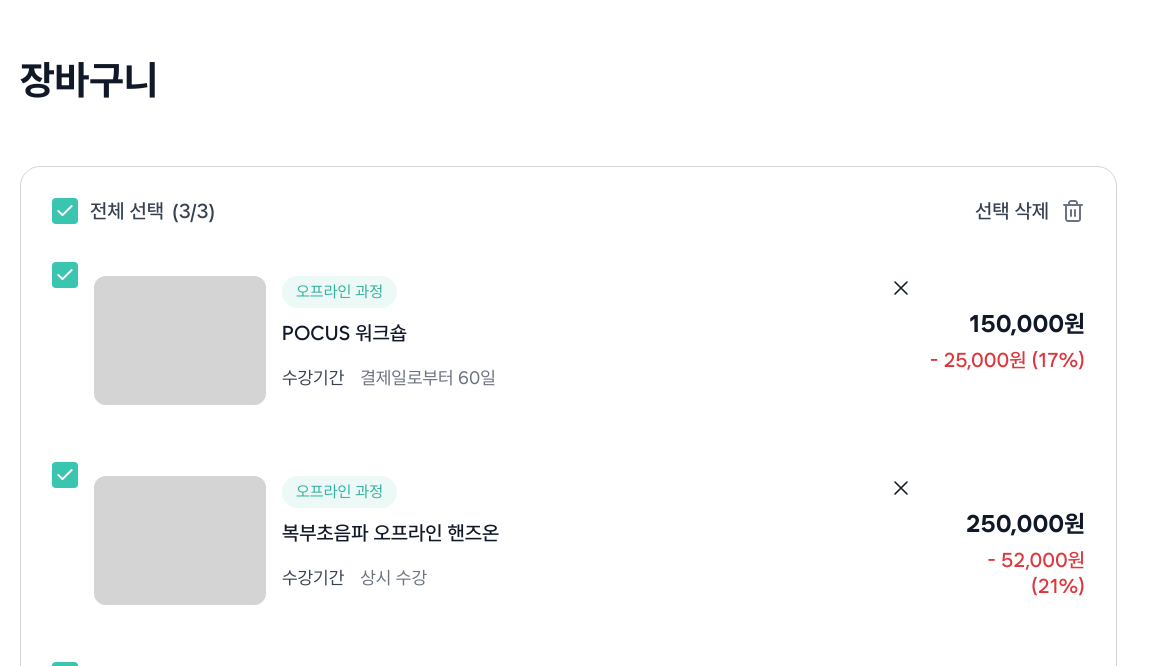
CartPage › removes only selected cart items when the selected delete action is clicked
Expected: the text "POCUS 워크숍" is shown, x1=282 y1=321 x2=407 y2=345
Click the checkbox named "복부초음파 오프라인 핸즈온 선택" at (65, 475), box x1=52 y1=462 x2=78 y2=488
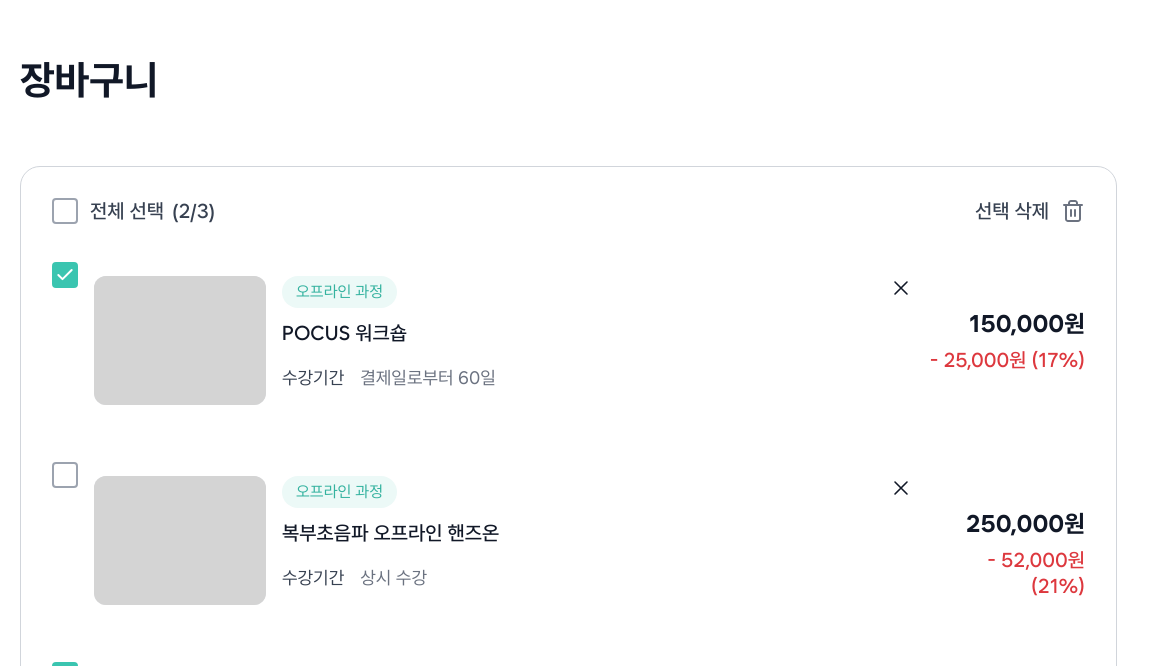
Click the button "선택 삭제" at (1030, 211), box x1=975 y1=195 x2=1085 y2=227
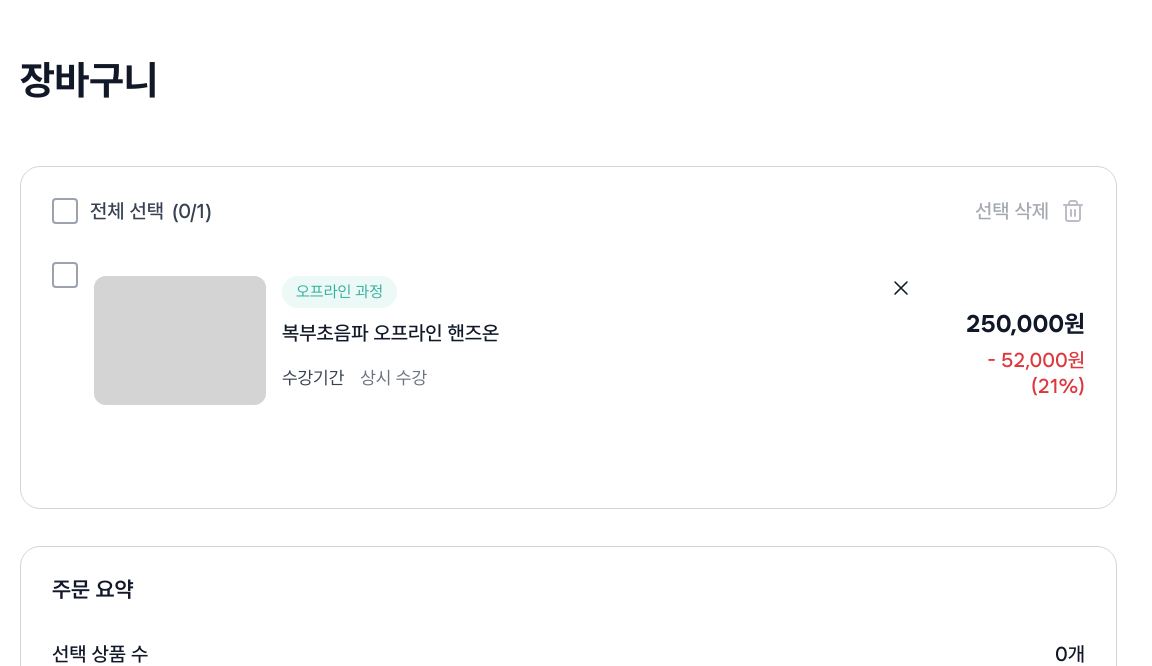
Expected: the text "복부초음파 오프라인 핸즈온" is shown, x1=282 y1=321 x2=499 y2=345
Expected: the link "POCUS 워크숍" is gone
